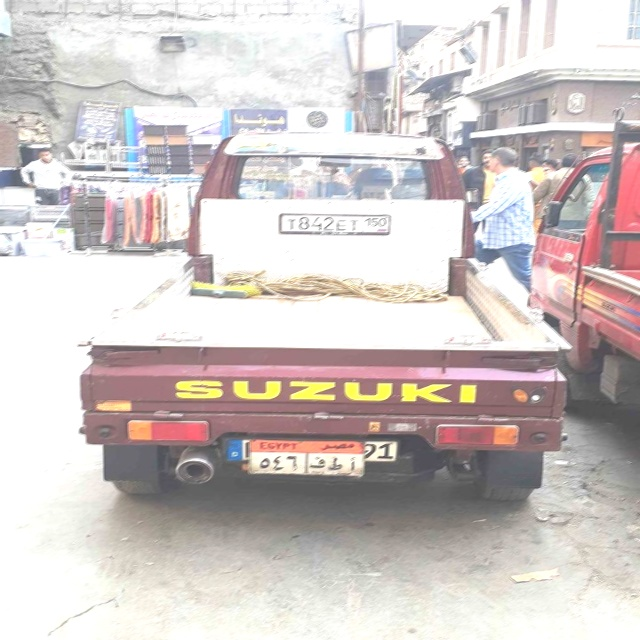License Plate: (248, 437, 366, 478)
